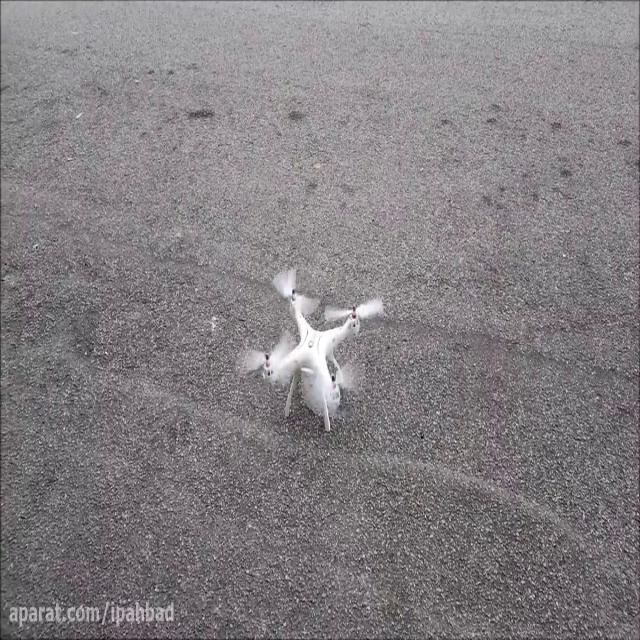drone: (236, 265, 384, 427)
